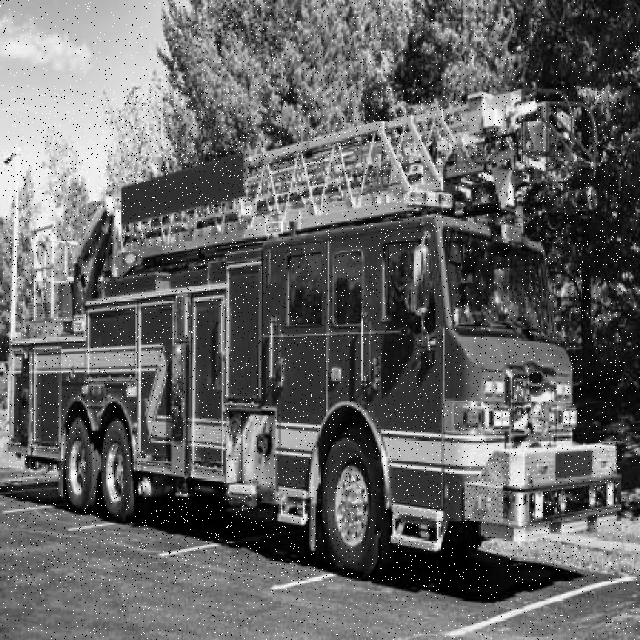Fire Truck: (7, 88, 621, 581)
